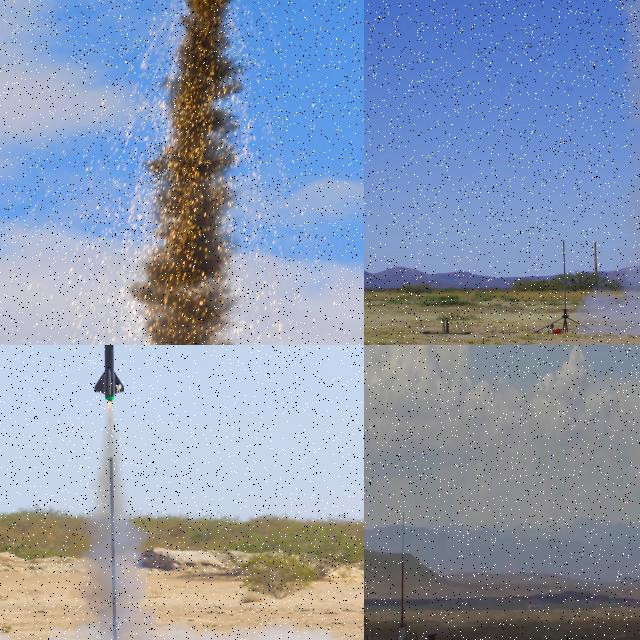Rocket: (92, 345, 126, 402), (401, 558, 404, 622)
